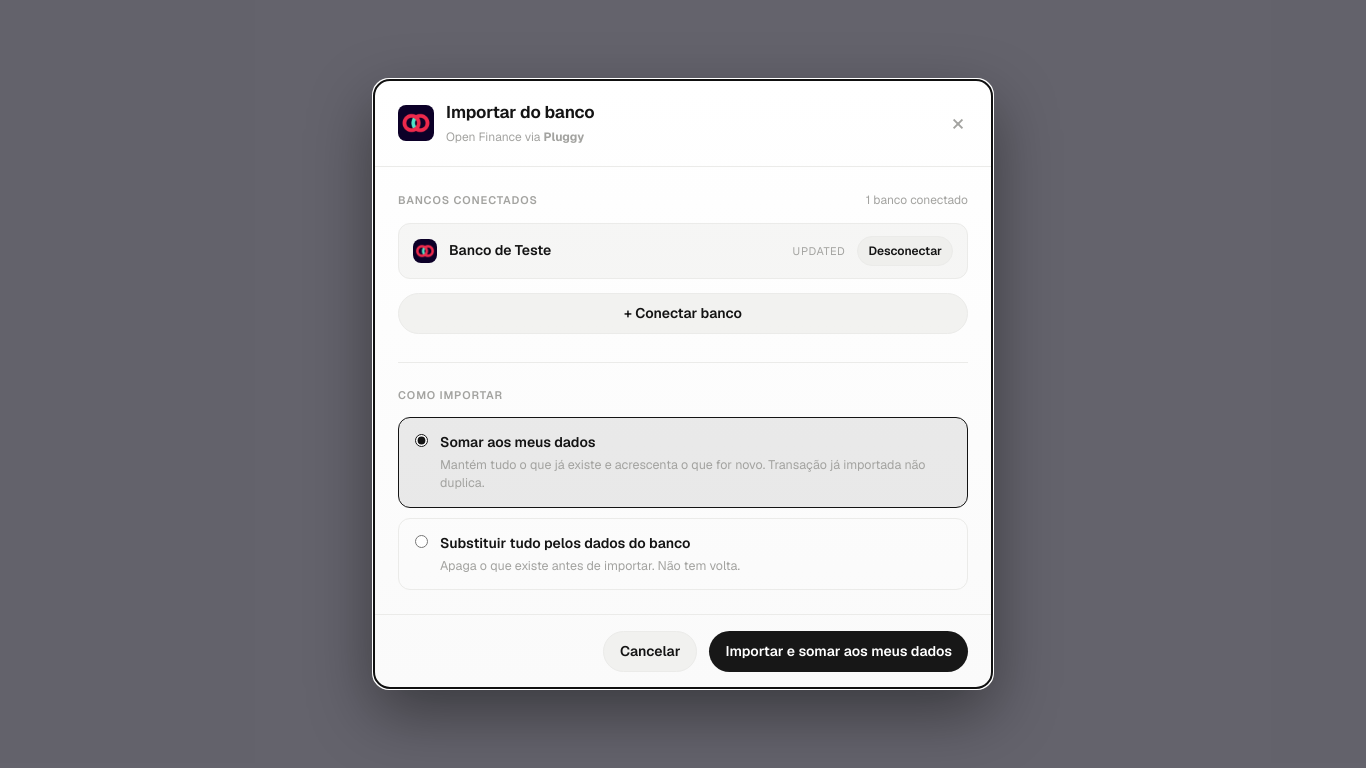
Test: PluggyImportModal — relatório (T-092) › falha na importação vira mensagem, e o modal não finge que deu certo
The image size is (1366, 768).
Click the button "Importar e somar aos meus dados" at (839, 651), box [709,631,968,672]
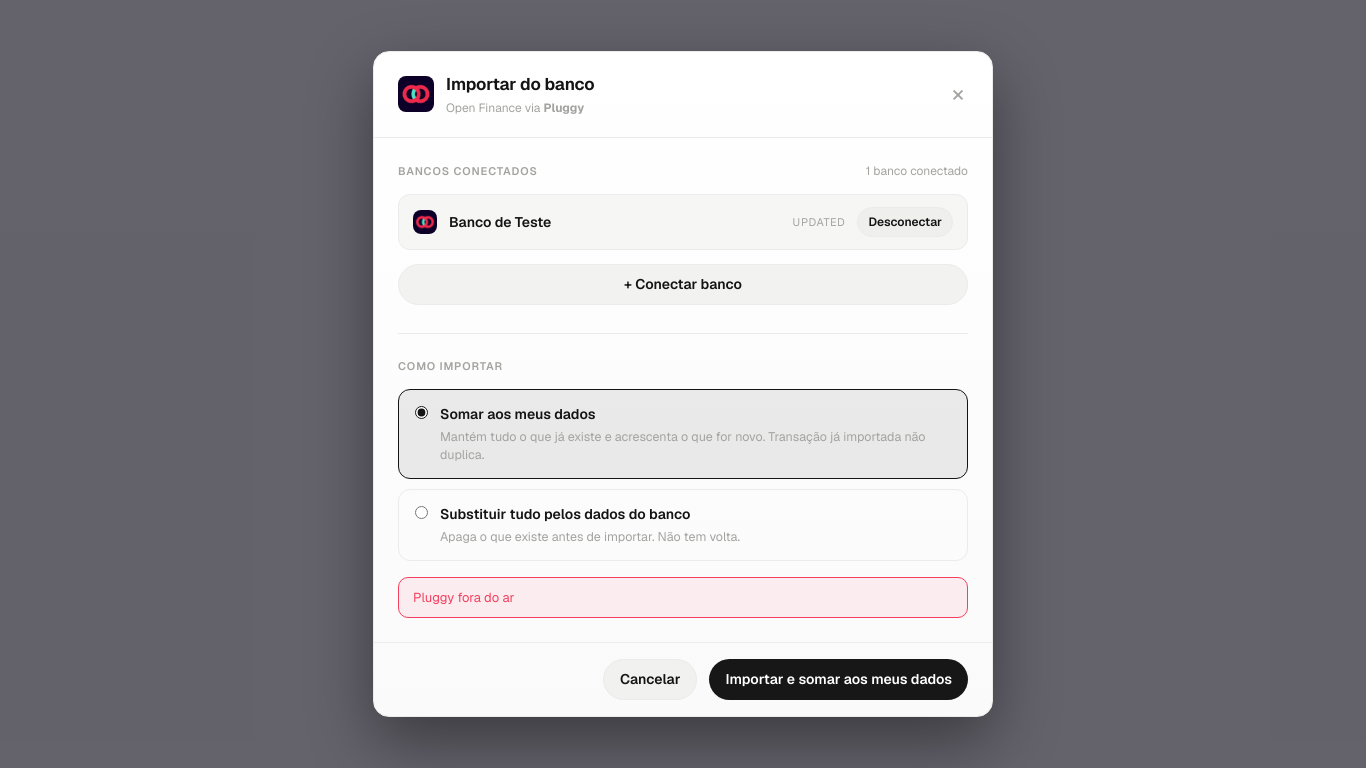
Expected: the text "Pluggy fora do ar" is shown, [398,577,968,618]
